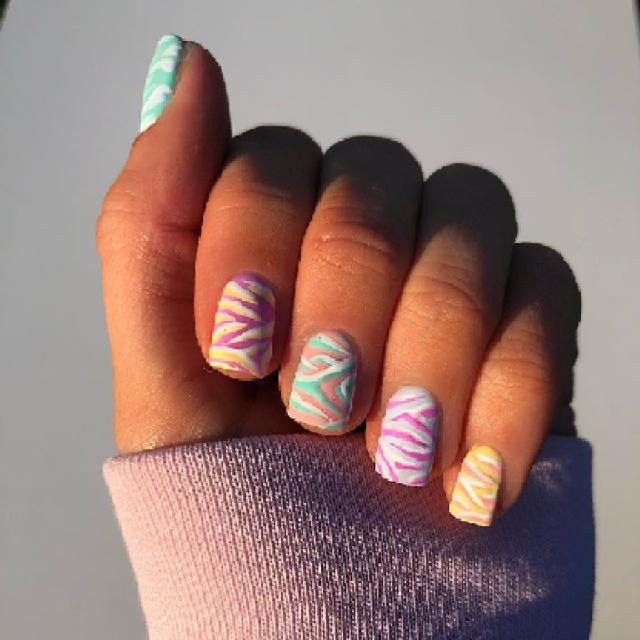Nail: (288, 331, 358, 431), (209, 274, 276, 378), (375, 386, 439, 486), (450, 445, 501, 526), (140, 35, 182, 132)
